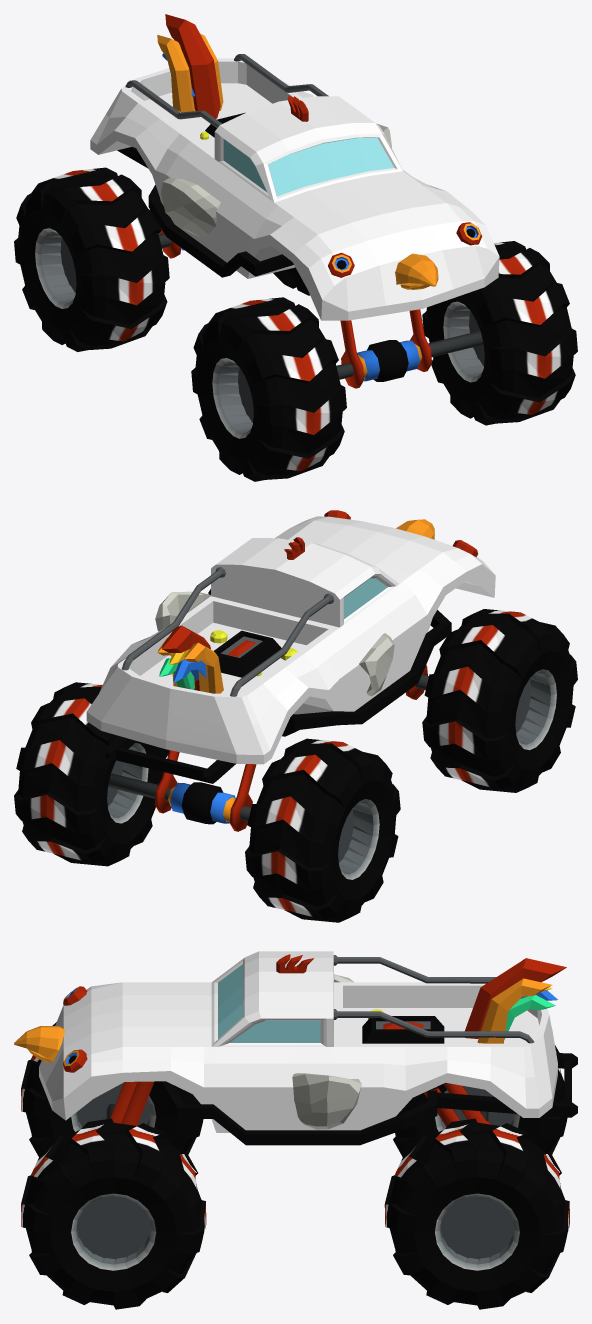
The model's file is truck 4.fbx.
3 views of the same model, one above another, from view 1: azimuth 30°, elevation 25°; view 2: azimuth 150°, elevation 25°; view 3: azimuth 270°, elevation 25° (orthographic). The views are drawn at different scales.
Visible parts, largest first — view 1: Monster_Truck_Body_2_Chicken_0, Wheel_FR_2_Chicken_0, Wheel_FR_2_Chicken_0.002, Wheel_FR_2_Chicken_0.001; view 2: Monster_Truck_Body_2_Chicken_0, Wheel_FR_2_Chicken_0.002, Wheel_FR_2_Chicken_0, Wheel_FR_2_Chicken_0.003; view 3: Monster_Truck_Body_2_Chicken_0, Wheel_FR_2_Chicken_0.001, Wheel_FR_2_Chicken_0.003, Wheel_FR_2_Chicken_0, Wheel_FR_2_Chicken_0.002.
Boxes of the visible parts, x1,y1,x2,y2 form: Monster_Truck_Body_2_Chicken_0: [90, 14, 499, 388]; Wheel_FR_2_Chicken_0: [191, 297, 346, 481]; Wheel_FR_2_Chicken_0.002: [14, 167, 169, 351]; Wheel_FR_2_Chicken_0.001: [422, 241, 577, 425]; Monster_Truck_Body_2_Chicken_0: [86, 510, 495, 831]; Wheel_FR_2_Chicken_0.002: [245, 738, 400, 922]; Wheel_FR_2_Chicken_0: [422, 609, 577, 792]; Wheel_FR_2_Chicken_0.003: [14, 682, 169, 866]; Monster_Truck_Body_2_Chicken_0: [14, 951, 577, 1145]; Wheel_FR_2_Chicken_0.001: [21, 1118, 206, 1309]; Wheel_FR_2_Chicken_0.003: [384, 1118, 569, 1309]; Wheel_FR_2_Chicken_0: [21, 1022, 203, 1156]; Wheel_FR_2_Chicken_0.002: [393, 1045, 567, 1156].
Bounding box in the file's own units: 33.48 × 28.61 × 51.03.
1 material, 1 textured.
